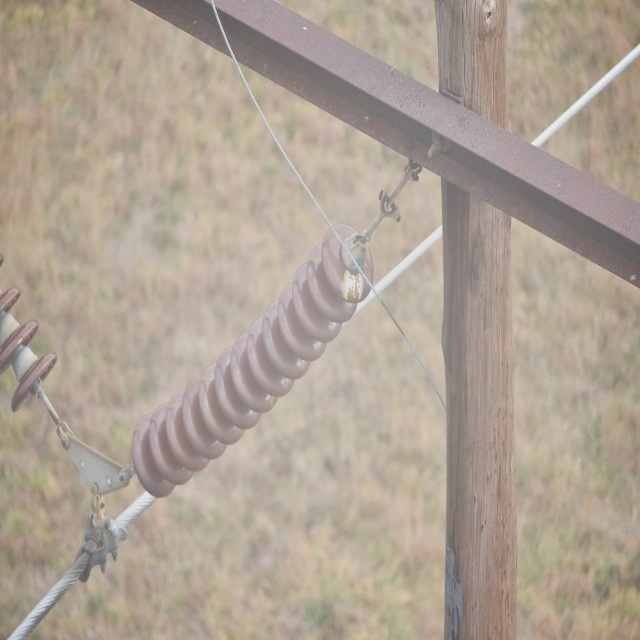insulator: (132, 222, 370, 497), (0, 254, 58, 412)
